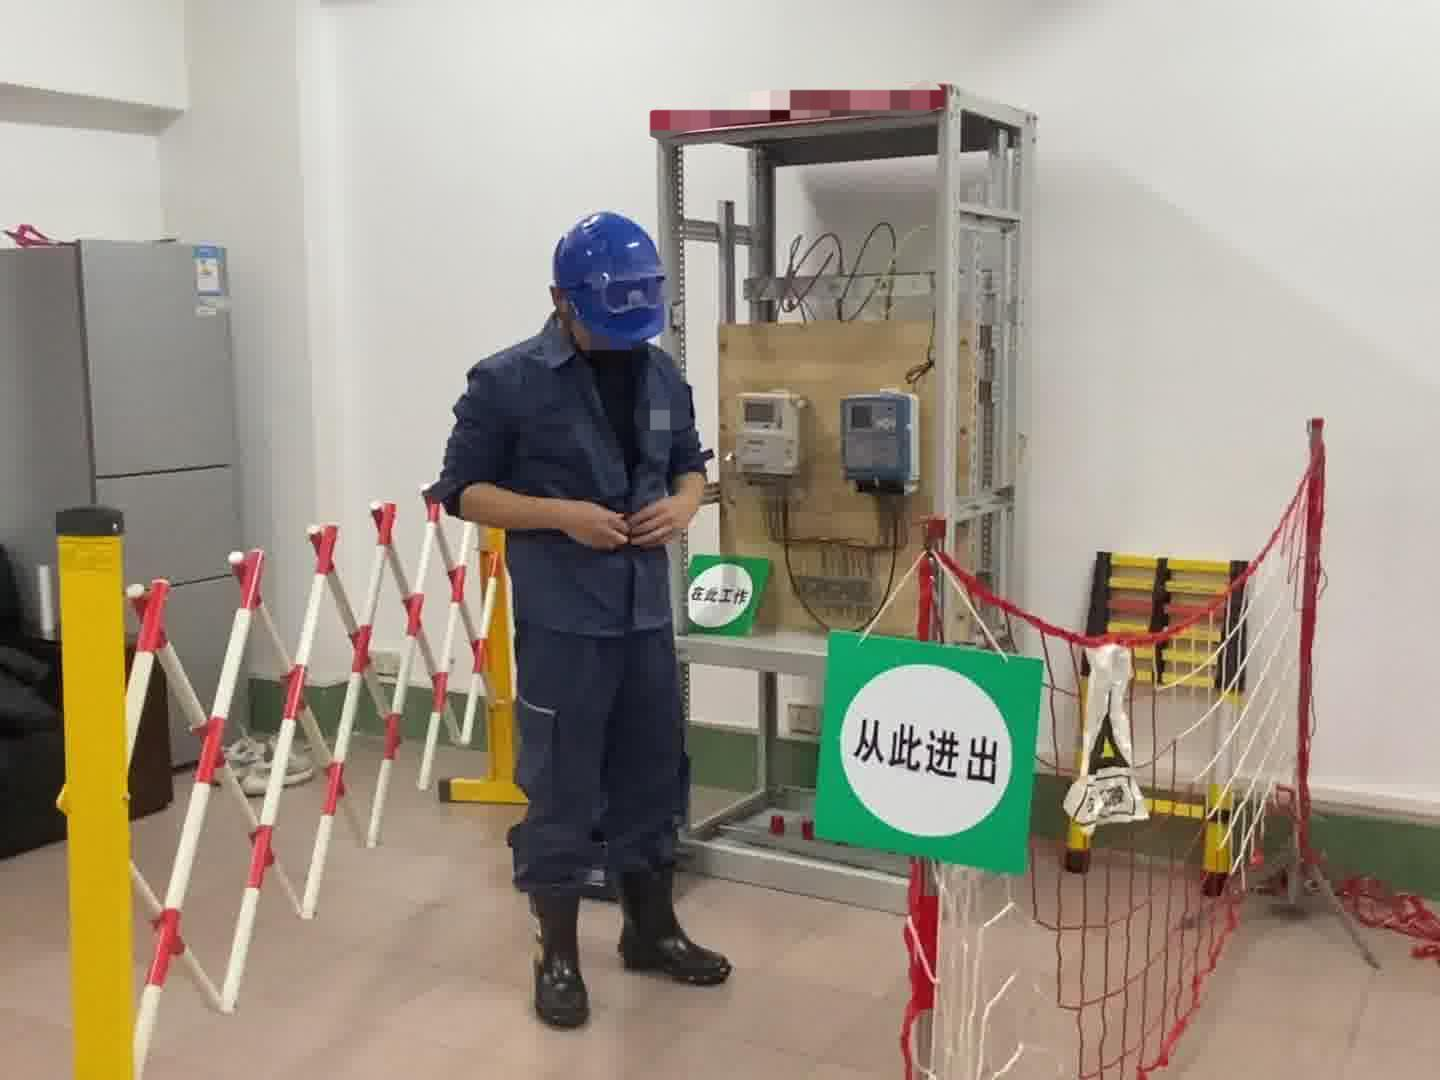halt: (551, 212, 672, 354)
